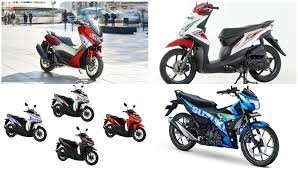motor: (161, 1, 282, 83), (166, 88, 280, 167), (38, 15, 109, 76), (51, 87, 98, 123), (53, 129, 100, 164), (104, 103, 145, 142), (8, 105, 46, 140)
